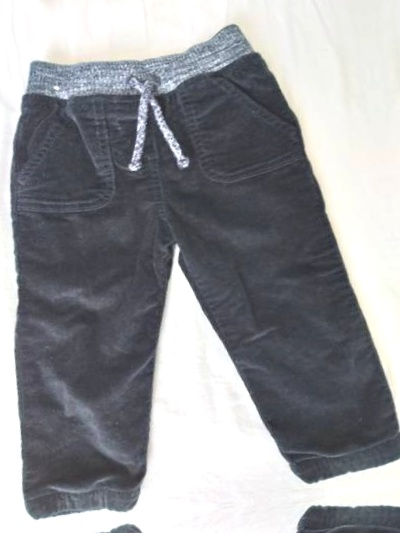Pants: (0, 0, 400, 520), (16, 496, 400, 533), (380, 0, 400, 467), (0, 0, 344, 26), (0, 49, 0, 533)
